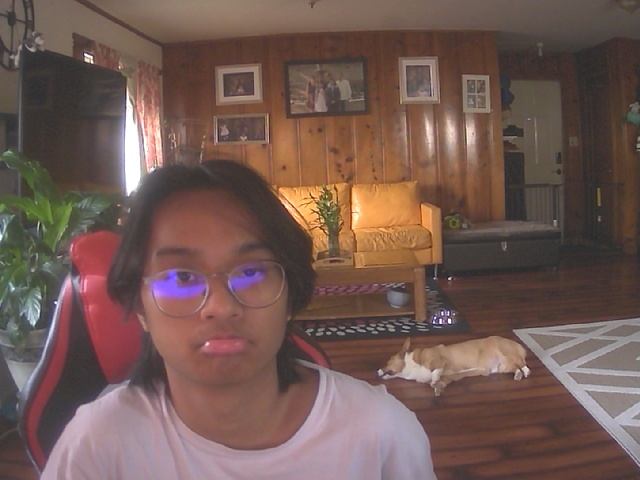sad: (130, 162, 302, 389)
